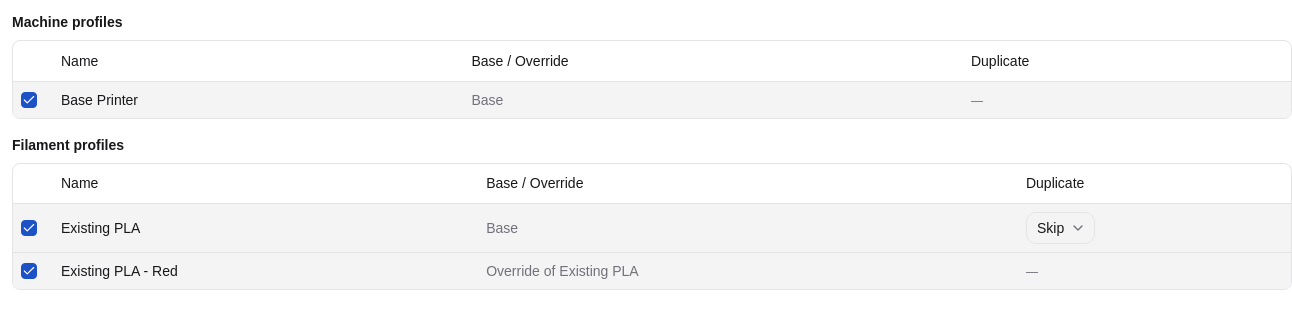
Test: ProfileReviewList › FR-006: warns when a selected override is checked but its bundle-present base is unchecked
Expected: the text "Base \"Existing PLA\" is in this bundle but not selected." is not shown
What coordinates should you click on to do the following:
click the checkbox named "Select Existing PLA"
I would click on:
 (29, 228)
Its box is [21,220,37,236].
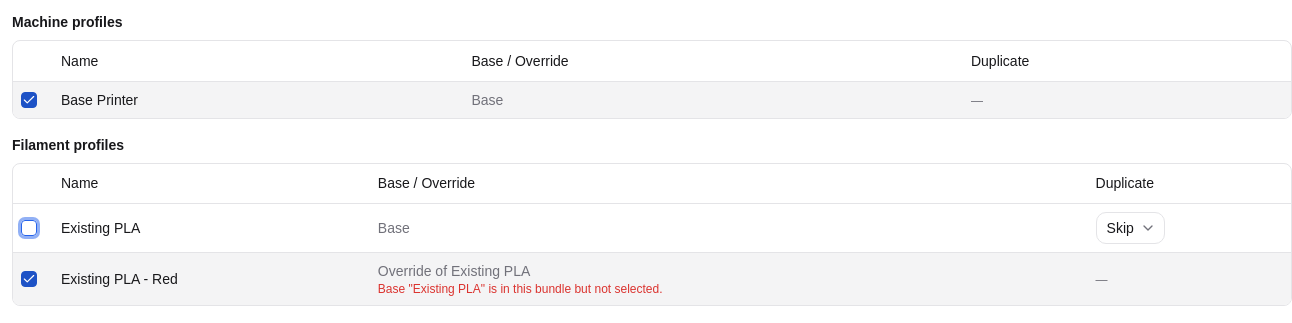
Expected: the text "Base \"Existing PLA\" is in this bundle but not selected." is shown, [378,282,662,296]
What coordinates should you click on to do the following:
click the checkbox named "Select Existing PLA"
I would click on:
 (29, 228)
Its box is [21,220,37,236].
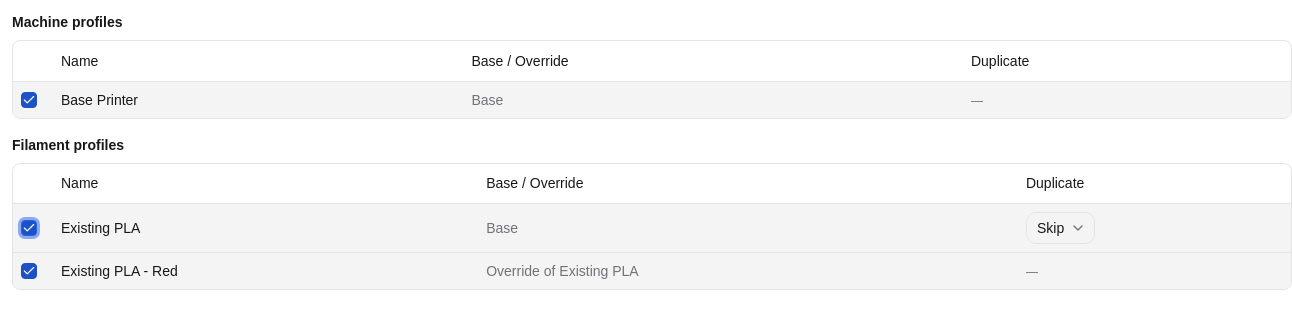
Expected: the text "Base \"Existing PLA\" is in this bundle but not selected." is gone
